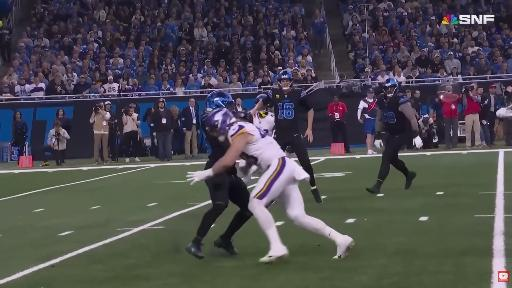Helmet: (204, 108, 236, 141), (206, 91, 234, 110), (278, 71, 293, 91), (383, 78, 398, 96), (258, 106, 269, 117)
Jersey: (228, 122, 285, 170), (264, 88, 310, 134), (201, 113, 228, 167), (378, 94, 409, 135), (254, 113, 274, 135)
Player: (188, 109, 354, 262), (252, 71, 322, 203), (366, 79, 422, 193), (187, 164, 251, 258), (254, 108, 274, 135)
